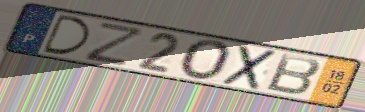2: (136, 32, 182, 75)
B: (263, 52, 324, 97)
D: (41, 12, 93, 57)
O: (177, 39, 235, 83)
X: (218, 44, 280, 92)
Z: (82, 19, 149, 68)
